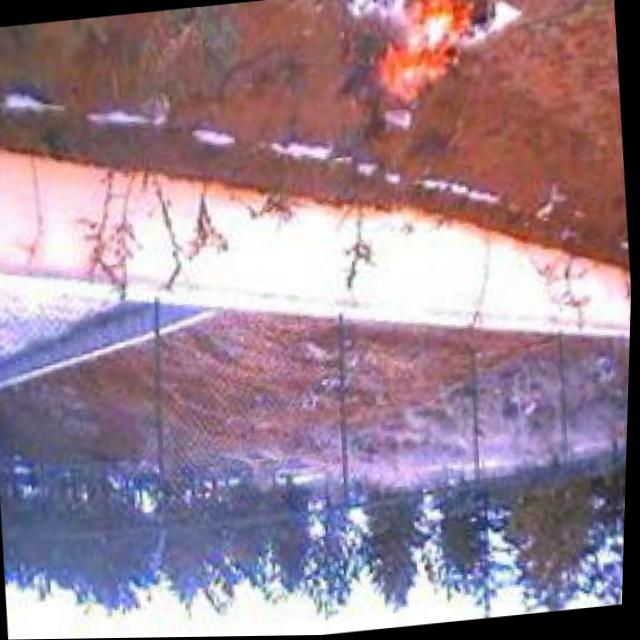Fire: (368, 0, 509, 108)
